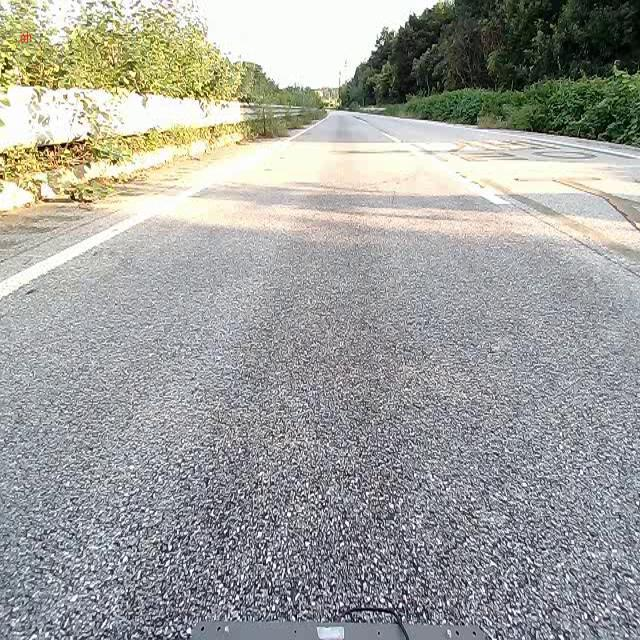Lane: (0, 170, 220, 304), (0, 173, 221, 302)
